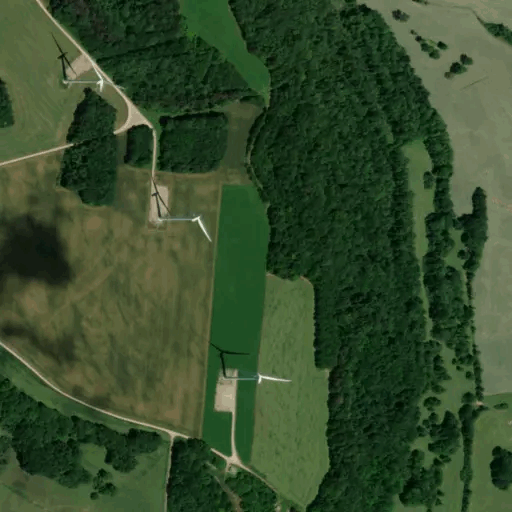wt: (46, 29, 131, 98), (141, 171, 217, 247), (196, 332, 296, 389)
